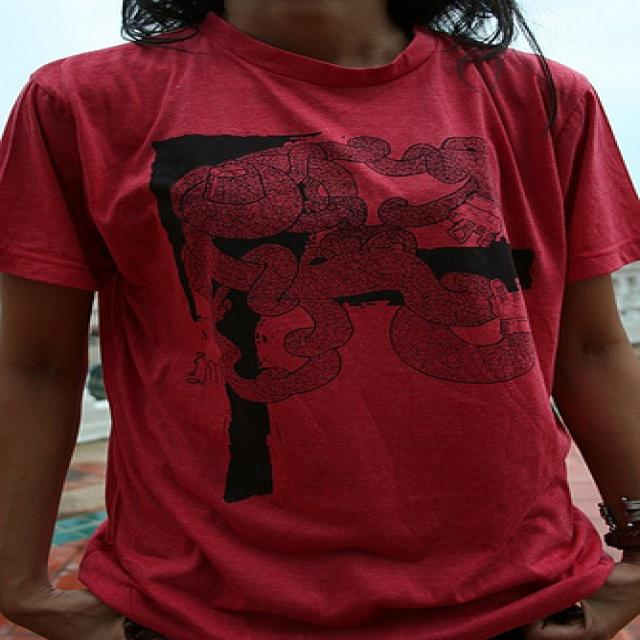T-shirt: (4, 16, 640, 640)
